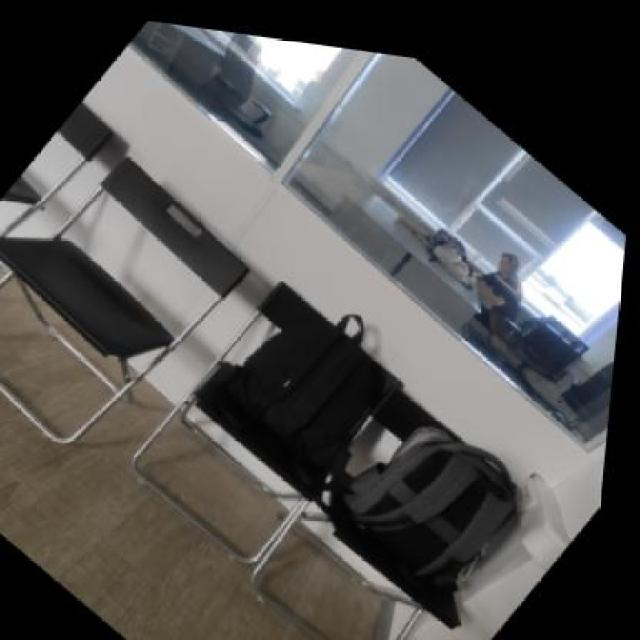chair: (1, 101, 284, 494), (113, 238, 424, 584), (237, 351, 551, 638)
